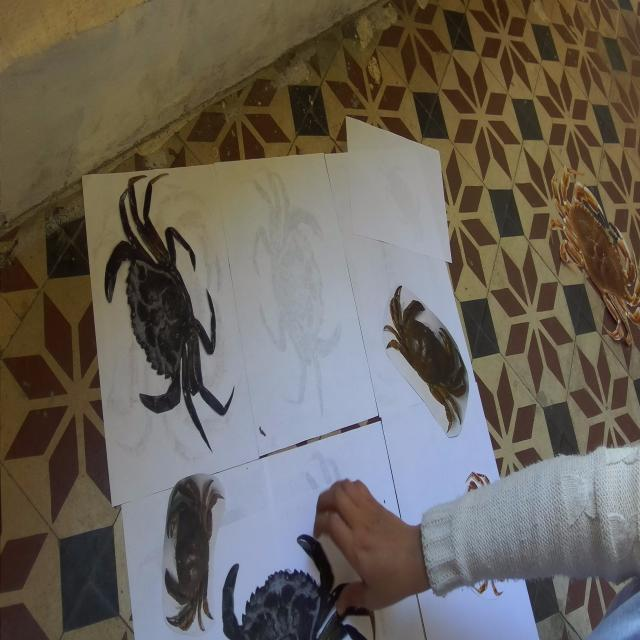European_Green_Crab: (82, 145, 250, 496), (0, 0, 0, 1)
